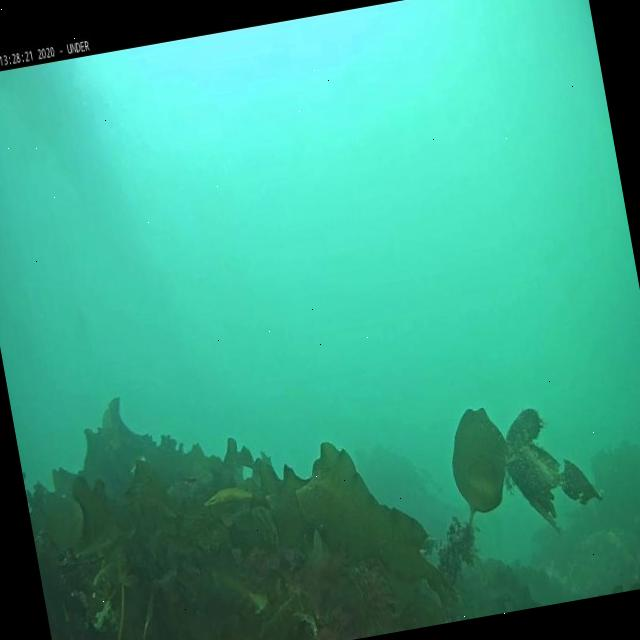fish: (203, 482, 276, 520), (178, 474, 199, 490)
